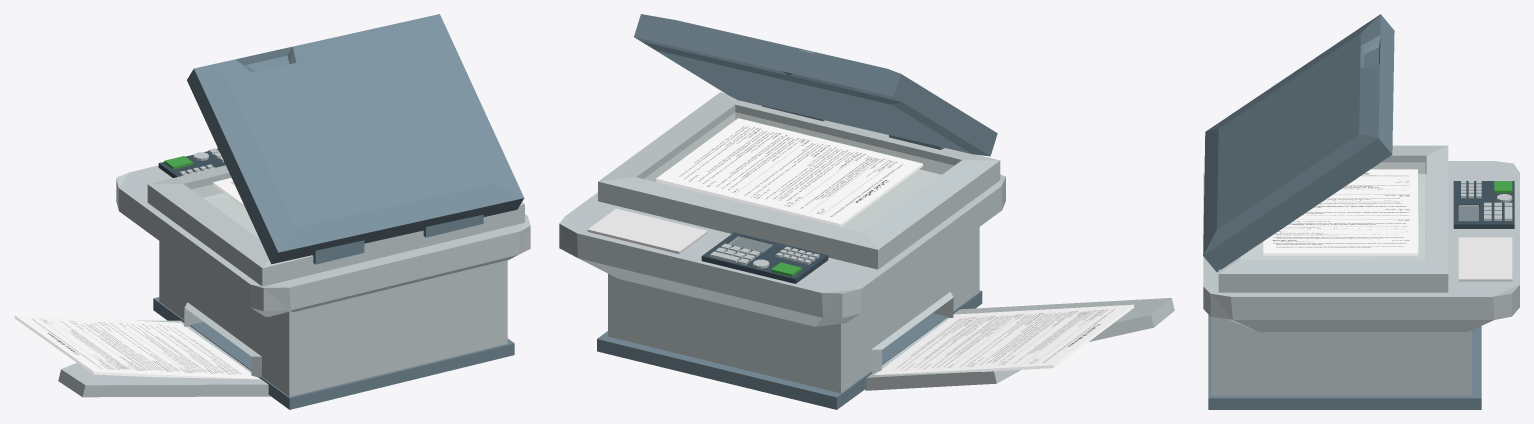
Rendered from ResumePrinter.glb.
3 views of the same model, side by side, from view 1: azimuth 30°, elevation 25°; view 2: azimuth 150°, elevation 25°; view 3: azimuth 270°, elevation 25° (orthographic). The views are drawn at different scales.
Parts seen in each view (by area): view 1: Node, Gabe_Bullerman_Resume-1; view 2: Node, Gabe_Bullerman_Resume-1.001, Gabe_Bullerman_Resume-1; view 3: Node, Gabe_Bullerman_Resume-1.001.
Boxes of the visible parts, box(x1,y1,x2,y2) form: Node: box(58, 14, 530, 409); Gabe_Bullerman_Resume-1: box(14, 315, 259, 379); Node: box(559, 14, 1174, 409); Gabe_Bullerman_Resume-1.001: box(656, 118, 922, 226); Gabe_Bullerman_Resume-1: box(874, 304, 1134, 374); Node: box(1203, 14, 1519, 409); Gabe_Bullerman_Resume-1.001: box(1263, 169, 1418, 255).
Size of the model in its own units: 2.02 by 1.24 by 1.24.
7 materials, 1 textured.
